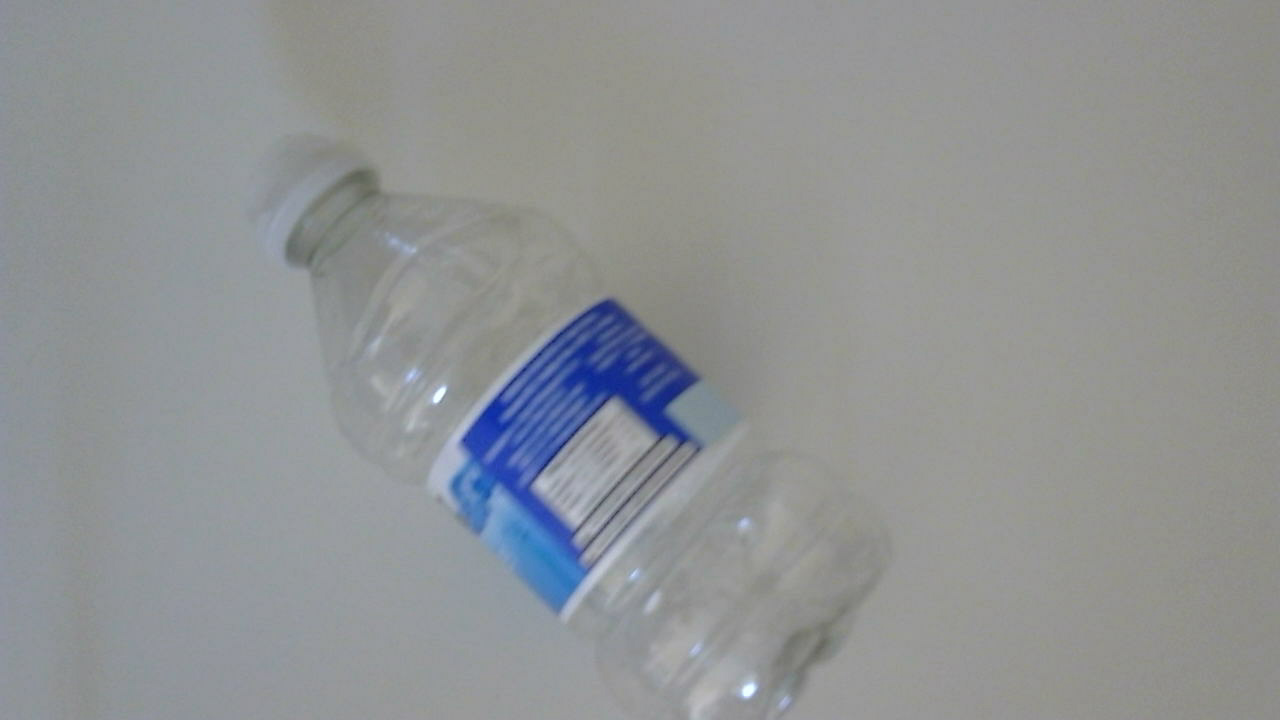Plastic Bottle: (248, 135, 903, 720)
